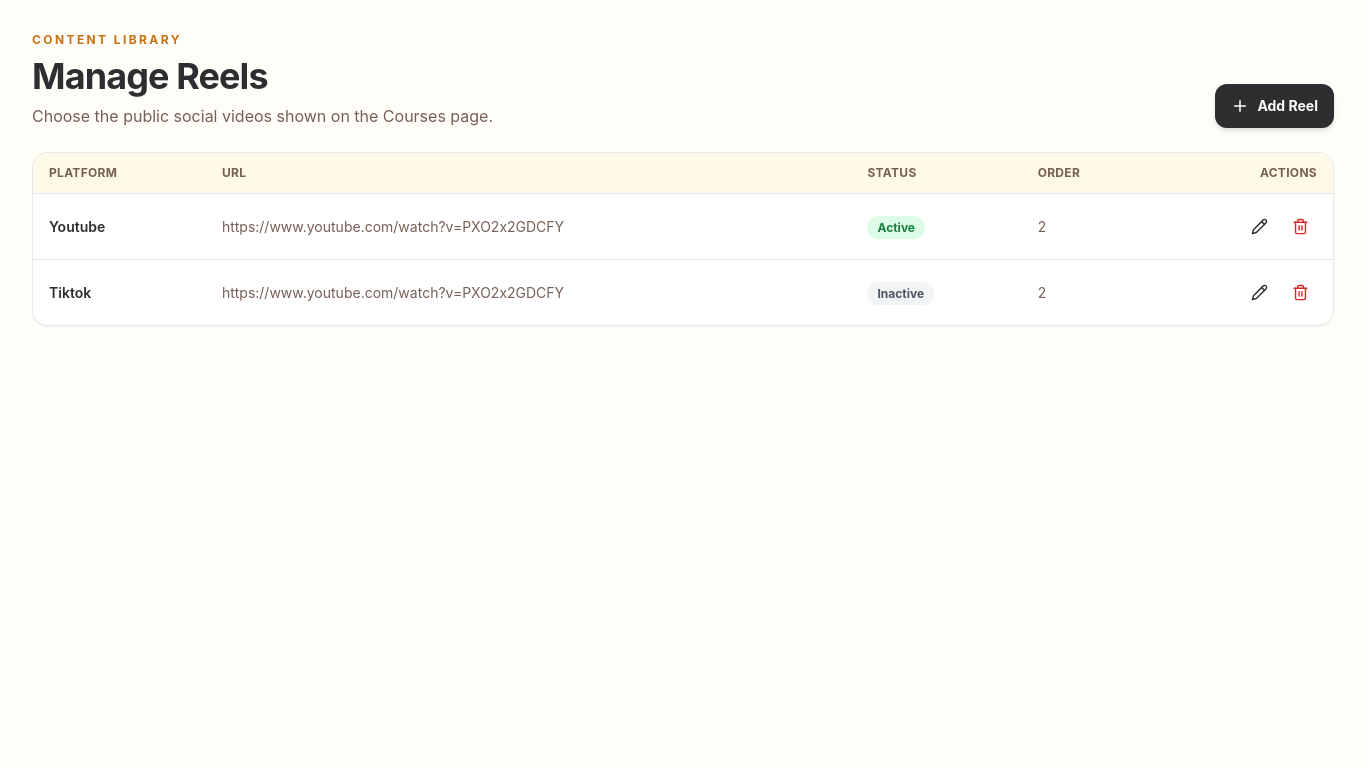
it: Reels management › shows all records, including inactive Reels, and opens the add form
The width and height of the screenshot is (1366, 768).
Check: the text "youtube" is shown, box [33,194,206,260]
Check: the text "Inactive" is shown, box [868,282,934,304]
Click the button "Add Reel". click: (1275, 106)
box: [1215,84,1334,128]
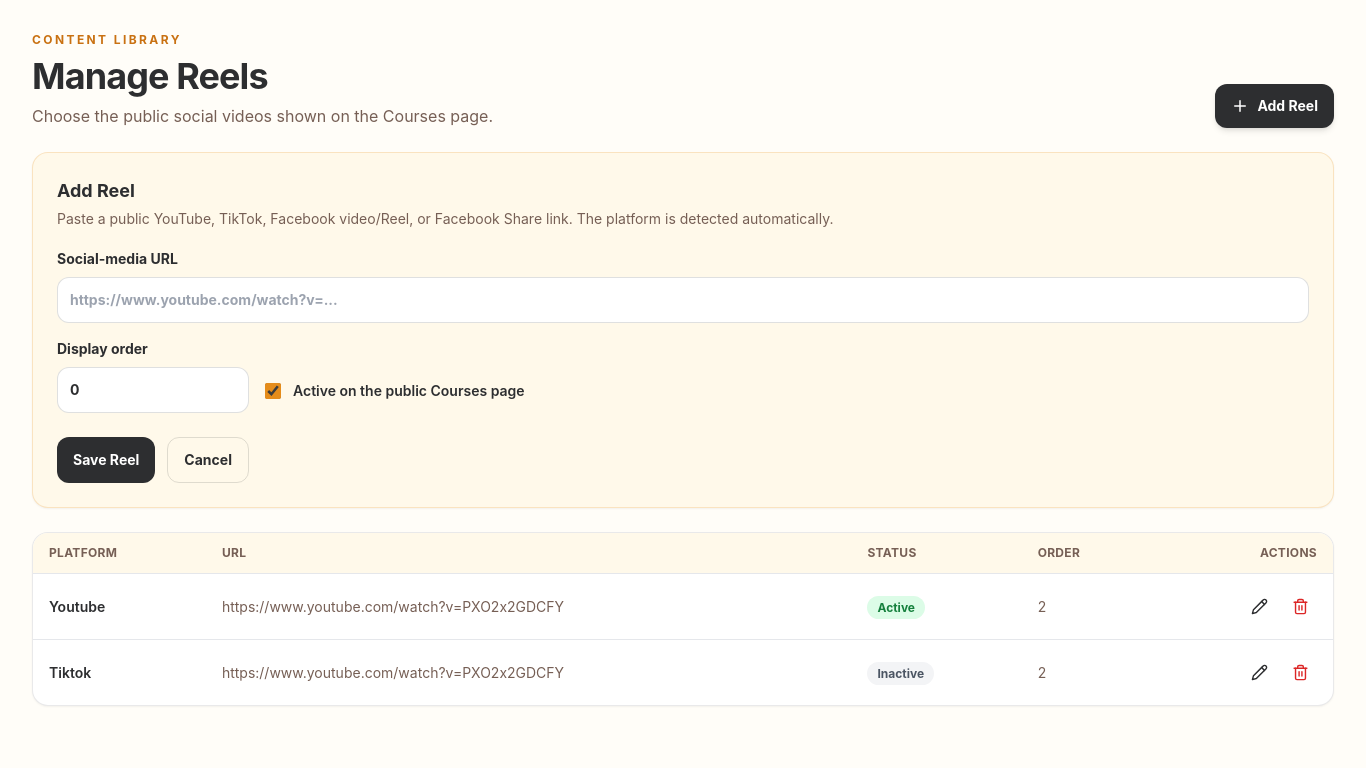
Check: the heading "Add Reel" is shown, box [57,180,135,201]
Check: the field labelled "Social-media URL" is shown, box [57,277,1309,323]
